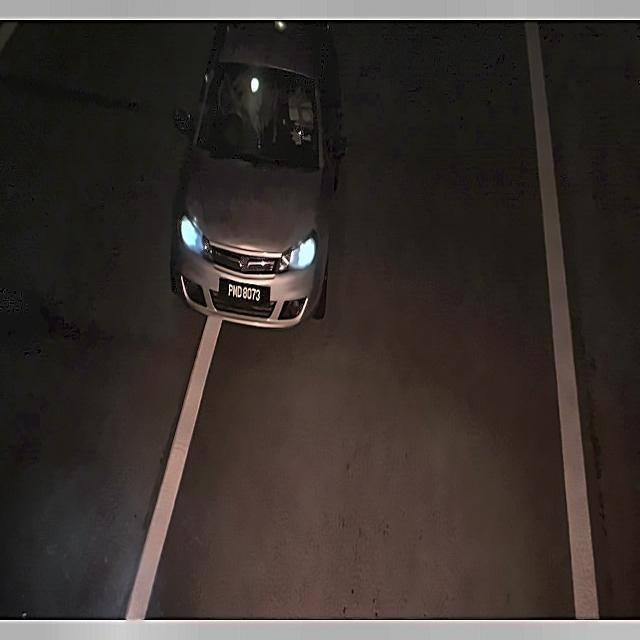car: (215, 273, 275, 315)
